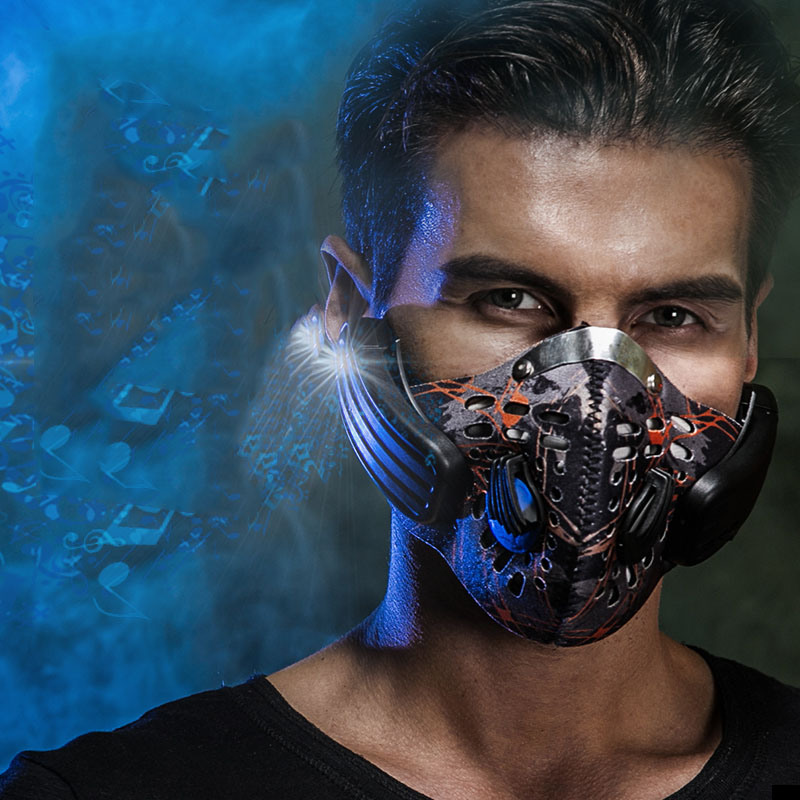face_mask: (405, 117, 754, 581)
